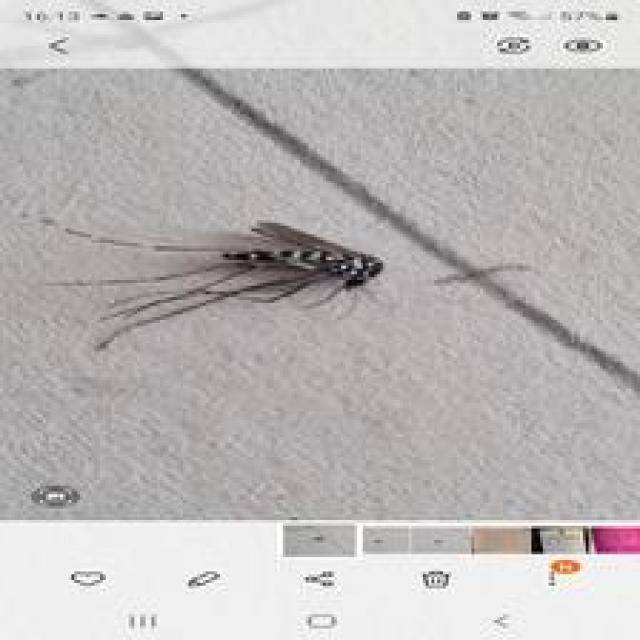Aedes albopictus: (46, 218, 386, 353)
